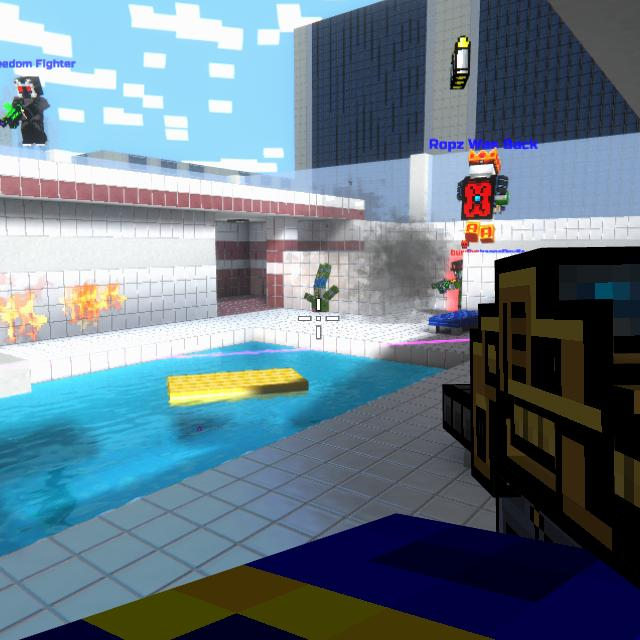Enemy: (445, 260, 462, 312), (470, 191, 484, 212)
